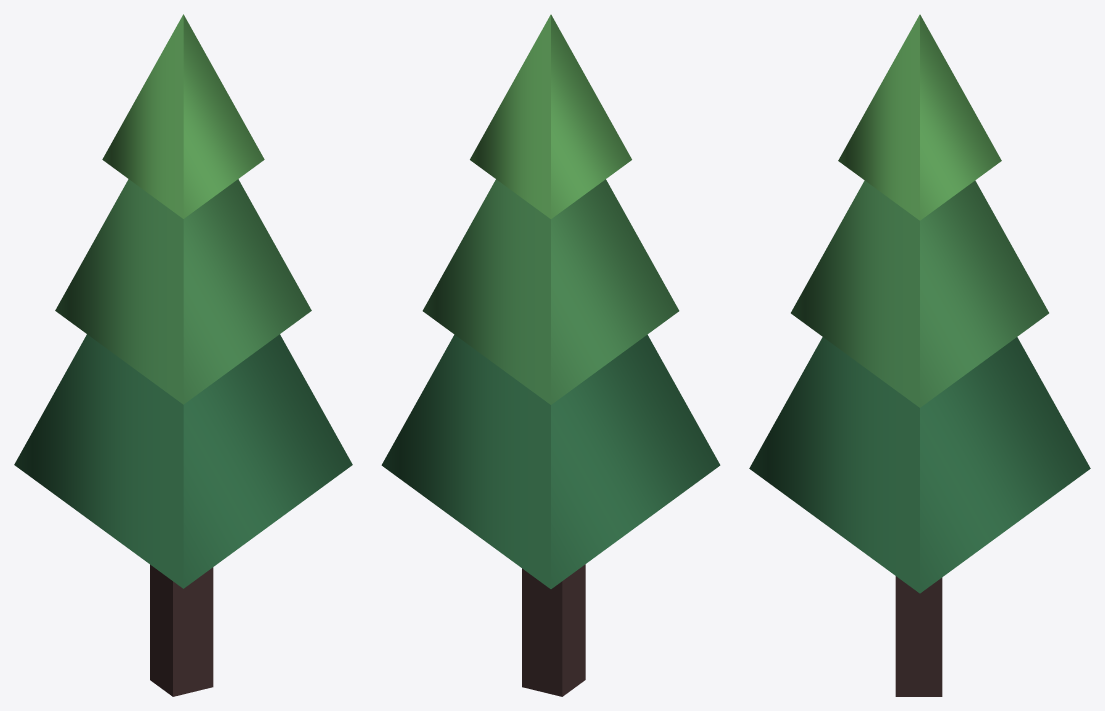
Rendered from conifer.FBX.
The picture shows the model from 3 angles, left to right: view 1: azimuth 30°, elevation 25°; view 2: azimuth 150°, elevation 25°; view 3: azimuth 270°, elevation 25°; orthographic projection.
Visible parts, largest first — view 1: Cone001; view 2: Cone001; view 3: Cone001.
Boxes of the visible parts, bbox=[...] form: Cone001: bbox=[14, 14, 352, 696]; Cone001: bbox=[381, 14, 720, 696]; Cone001: bbox=[749, 14, 1090, 696].
Size of the model in its own units: 18.11 by 45.54 by 20.91.
